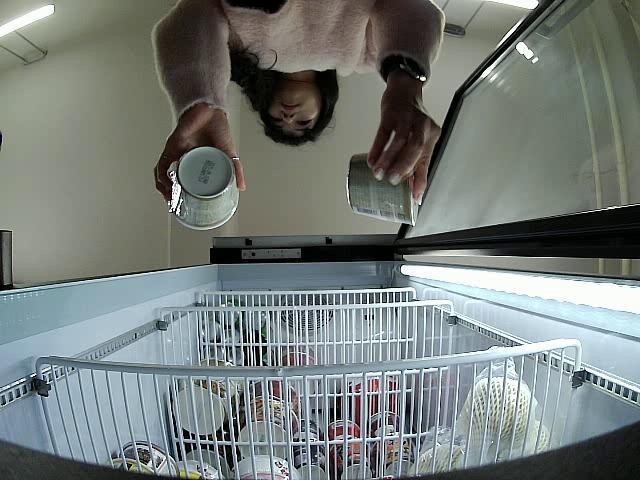04_chapagetti_S: (164, 146, 242, 234), (347, 152, 423, 228)
